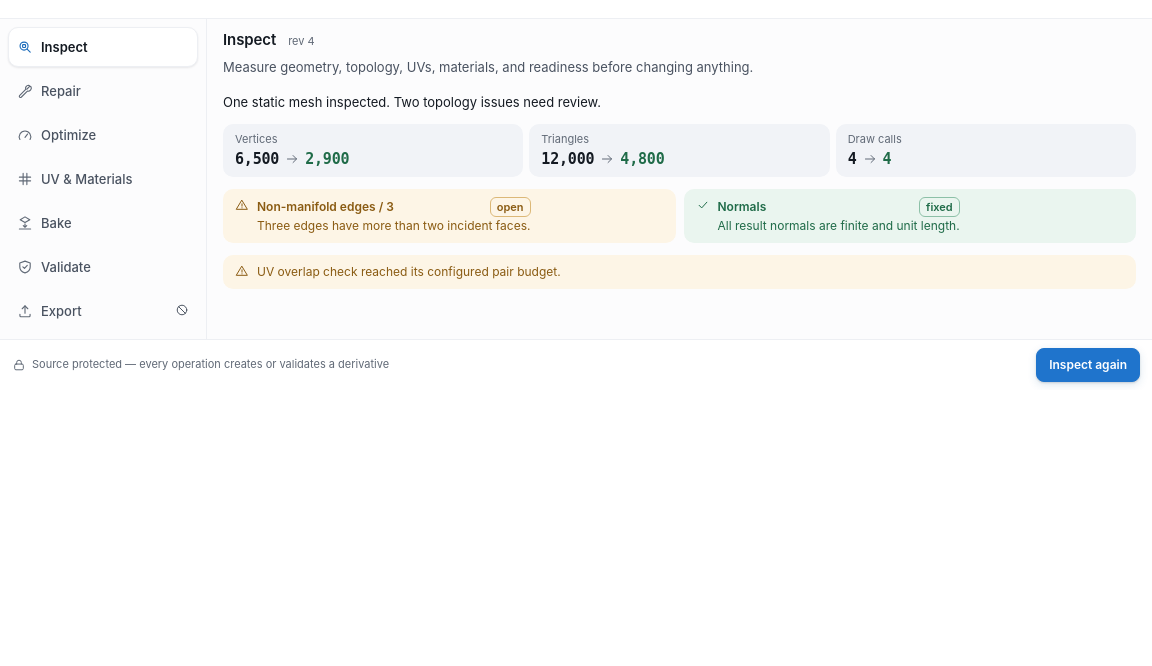
Scenario: stage tabs follow keyboard navigation and repair sends the exact reviewed configuration
Step 1. Press ArrowRight in the tab "Inspect", box [8,27,198,67]
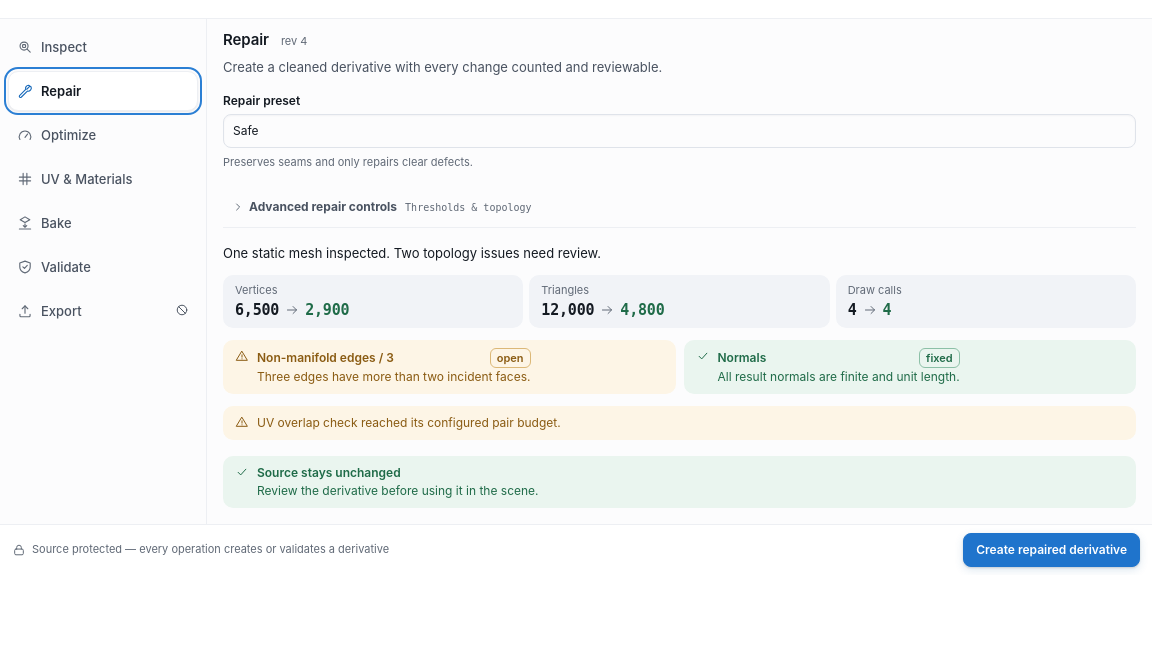
Result: the tab "Repair" is selected at [8,71,198,111]
Step 2. Click the button "Advanced repair controls Thresholds & topology" → [323, 206], box [223,187,1136,227]
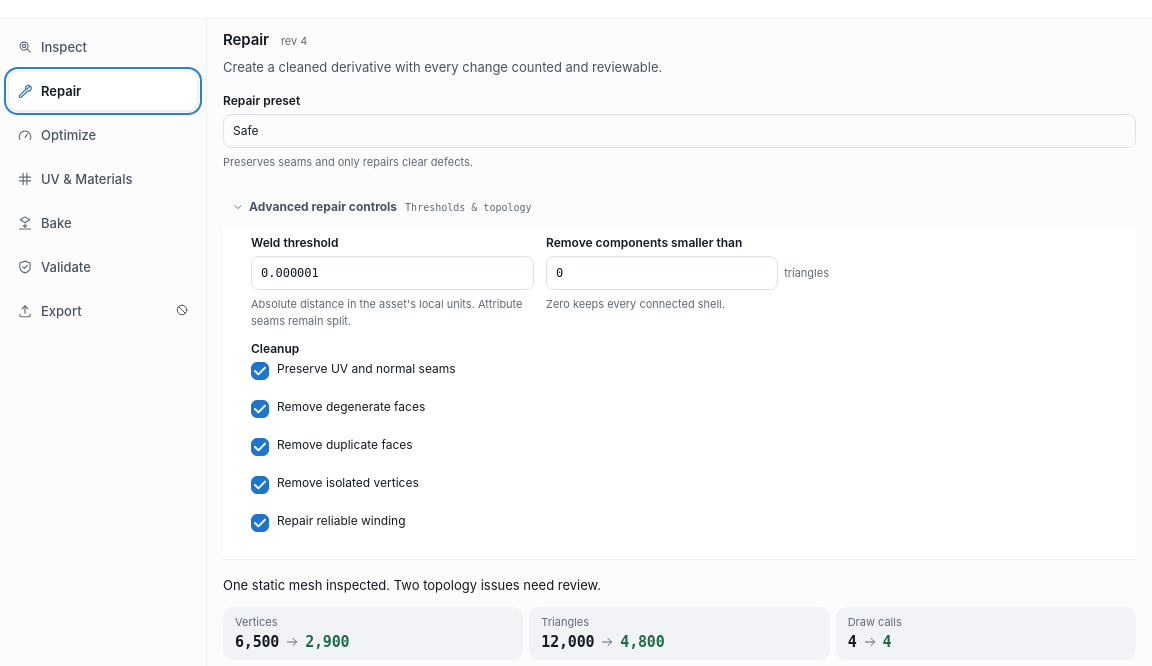
Result: the number field labelled "Weld threshold" is shown at [251,256,534,290]
Step 3. Select "Thorough" in the dropdown labelled "Repair preset" → [680, 131], box [223,114,1136,148]
(page scrolled)
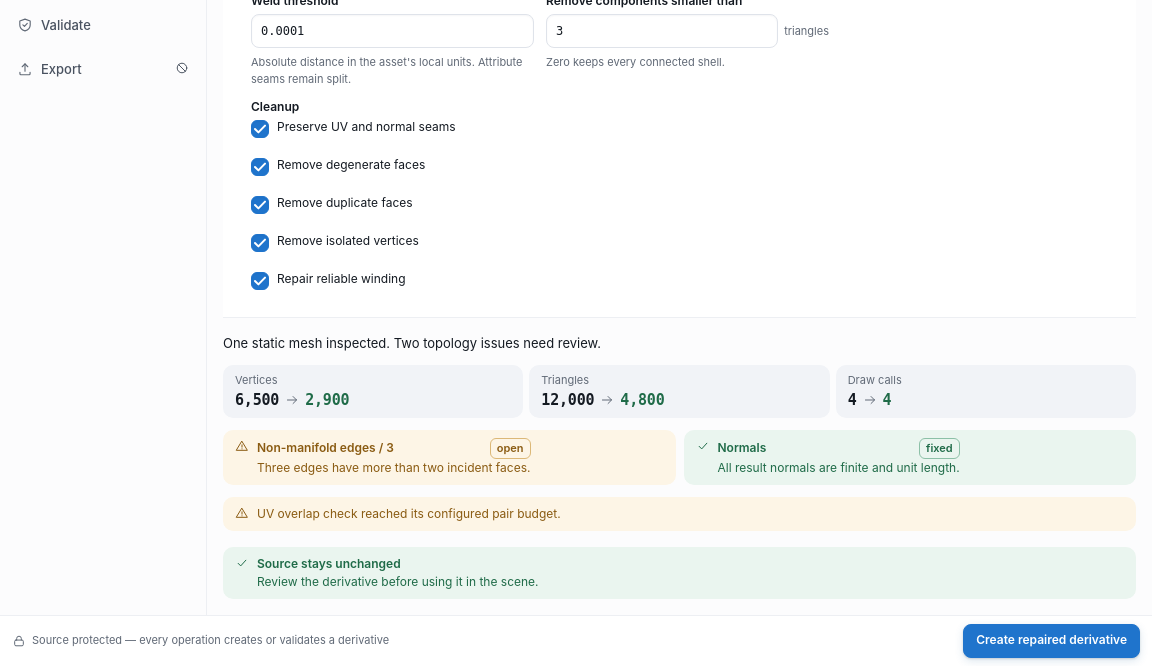
Step 4. Click the button with test id "asset-lab-repair" → [1052, 640], box [963,624,1140,658]
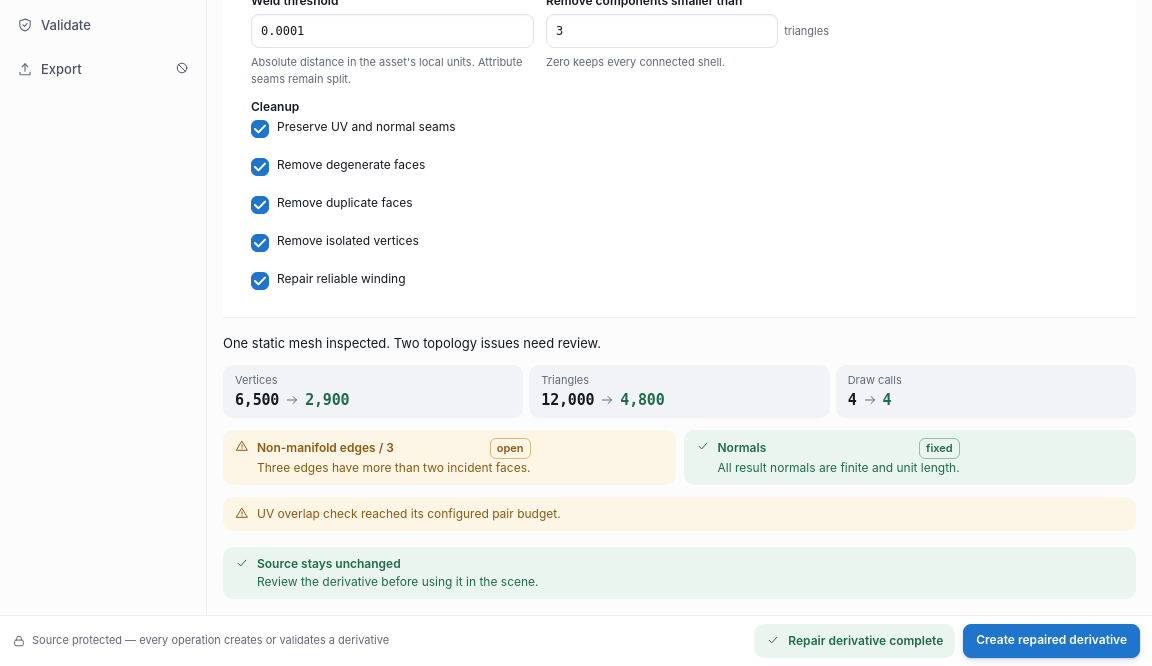
Result: the text "Repair derivative complete" is shown at [788,632,943,650]
